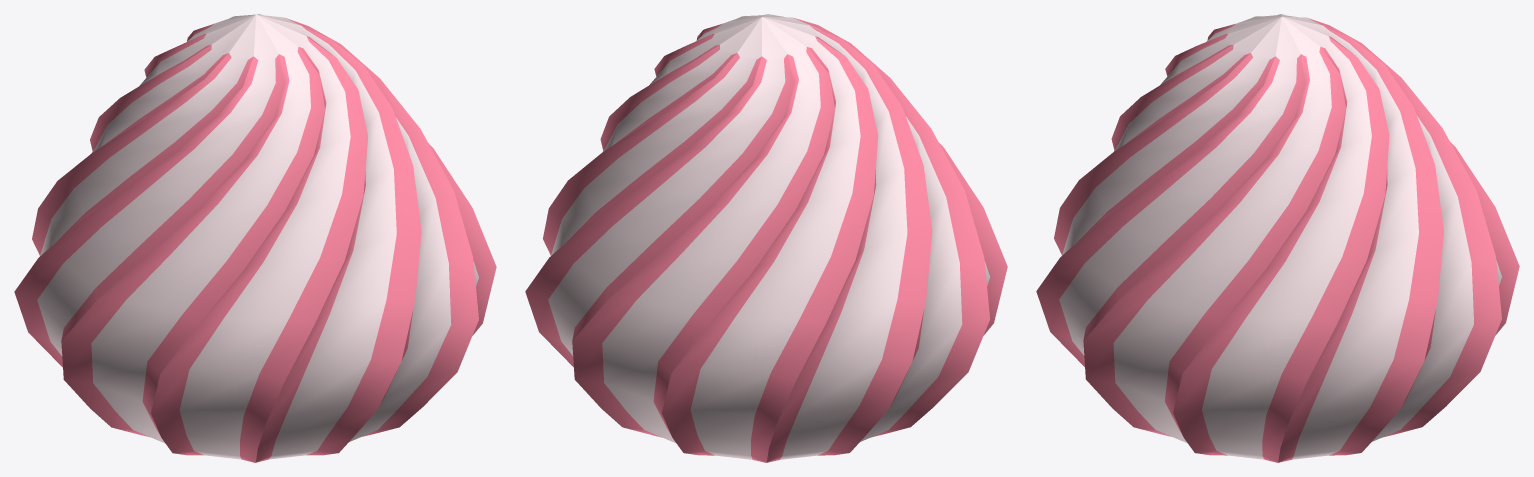
File: Ice Cream Spiral B White Pink.fbx
3 views of the same model, side by side, from view 1: azimuth 30°, elevation 25°; view 2: azimuth 150°, elevation 25°; view 3: azimuth 270°, elevation 25° (orthographic).
Visible parts, largest first — view 1: Ice Cream Spiral B White Pink; view 2: Ice Cream Spiral B White Pink; view 3: Ice Cream Spiral B White Pink.
Part boxes in pixels (<box>): Ice Cream Spiral B White Pink: <box>14,14,496,462</box>; Ice Cream Spiral B White Pink: <box>525,14,1007,462</box>; Ice Cream Spiral B White Pink: <box>1036,14,1519,462</box>.
Size of the model in its own units: 0.4173 by 0.3732 by 0.4173.
